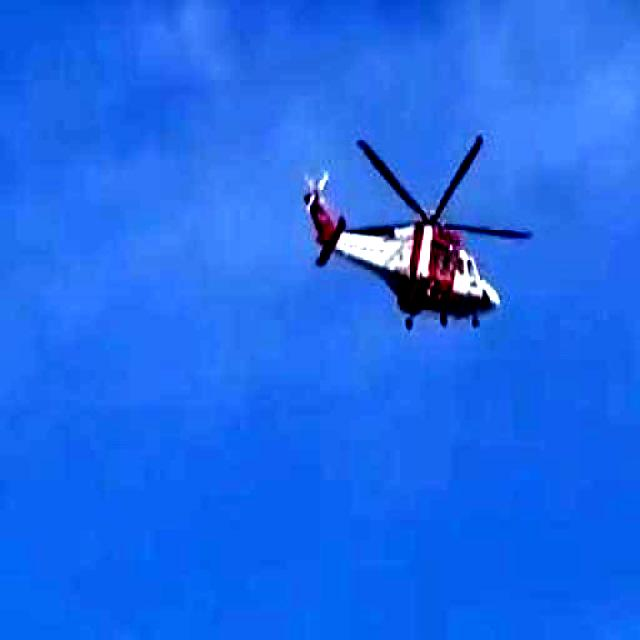drone: (265, 51, 609, 398)
